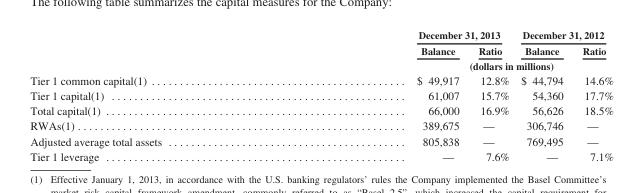table: (29, 29, 612, 162)
table column: (29, 29, 288, 162), (288, 29, 468, 162), (514, 29, 572, 162), (468, 29, 514, 162), (572, 29, 612, 162)
table column header: (29, 29, 612, 72)
table row: (29, 117, 612, 133), (29, 42, 612, 57), (29, 57, 612, 72), (29, 72, 612, 87), (29, 87, 612, 102), (29, 102, 612, 117), (29, 133, 612, 148), (29, 148, 612, 162), (29, 29, 612, 42)
table spanning cell: (288, 57, 612, 72), (288, 29, 514, 42), (514, 29, 612, 42)
